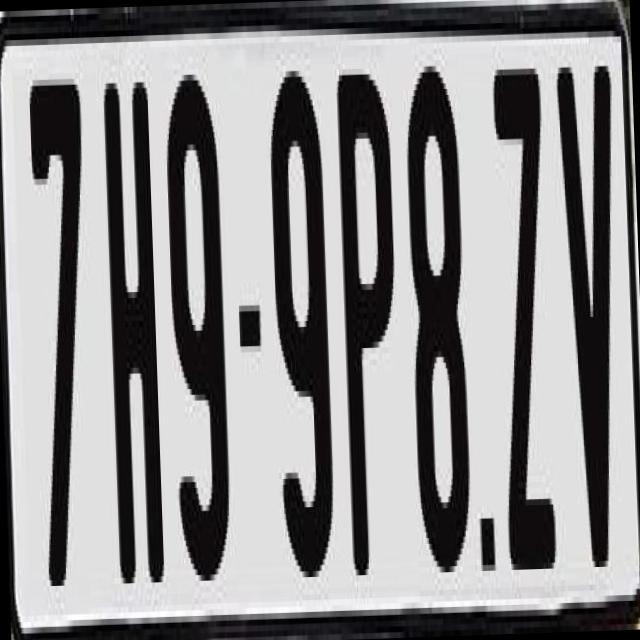7: (27, 66, 101, 569)
8: (404, 59, 478, 567)
9: (158, 62, 230, 588), (262, 70, 336, 578)
H: (99, 64, 161, 572)
P: (333, 73, 408, 586)
V: (554, 65, 632, 585)
Z: (489, 51, 562, 558)
